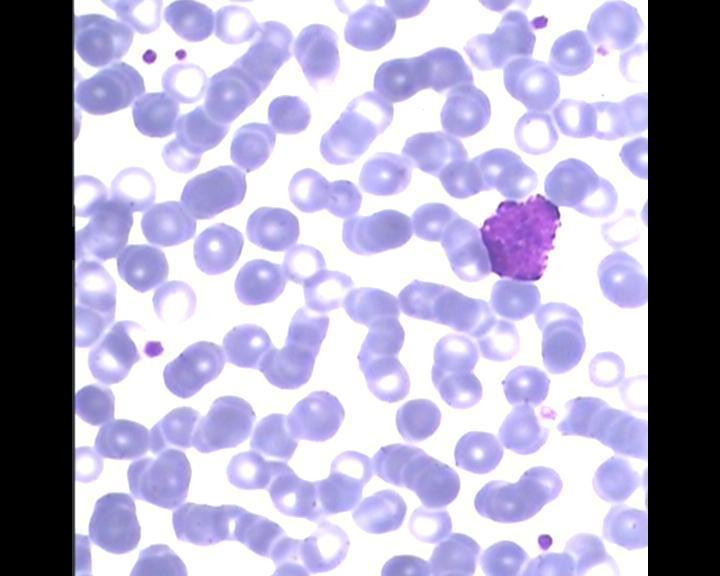baso: (478, 190, 563, 287)
